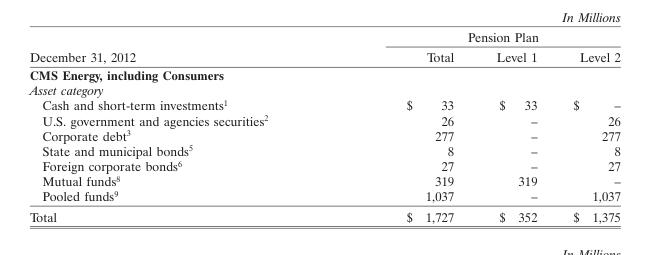table: (28, 29, 619, 223)
table column: (28, 29, 336, 223), (336, 29, 474, 223), (474, 29, 554, 223), (554, 29, 619, 223)
table column header: (28, 29, 619, 65)
table projected row header: (28, 65, 619, 82), (28, 82, 619, 97)
table row: (28, 46, 619, 65), (28, 205, 619, 223), (28, 29, 619, 46), (28, 65, 619, 82), (28, 188, 619, 205), (28, 157, 619, 173), (28, 82, 619, 97), (28, 97, 619, 112), (28, 112, 619, 127), (28, 127, 619, 142), (28, 142, 619, 157), (28, 173, 619, 188)
table spanning cell: (28, 29, 336, 65), (336, 29, 619, 46)
